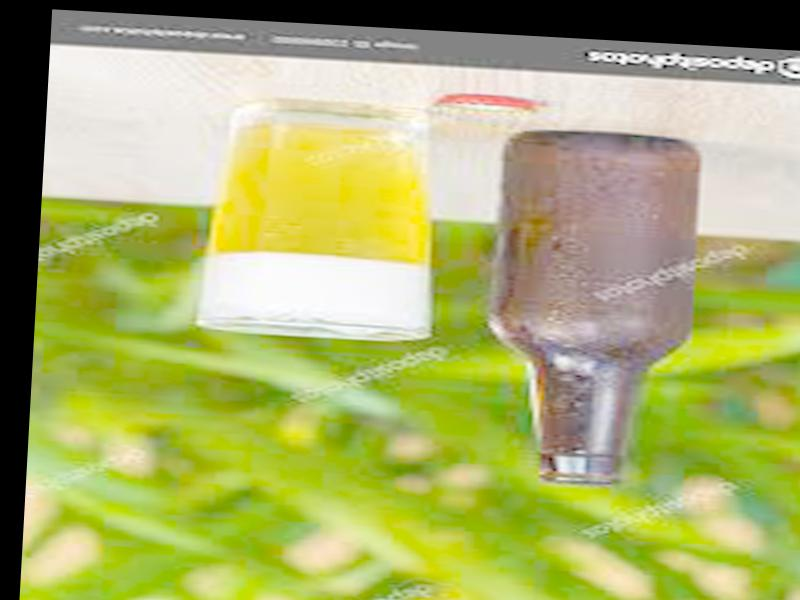Beer: (484, 124, 692, 487)
